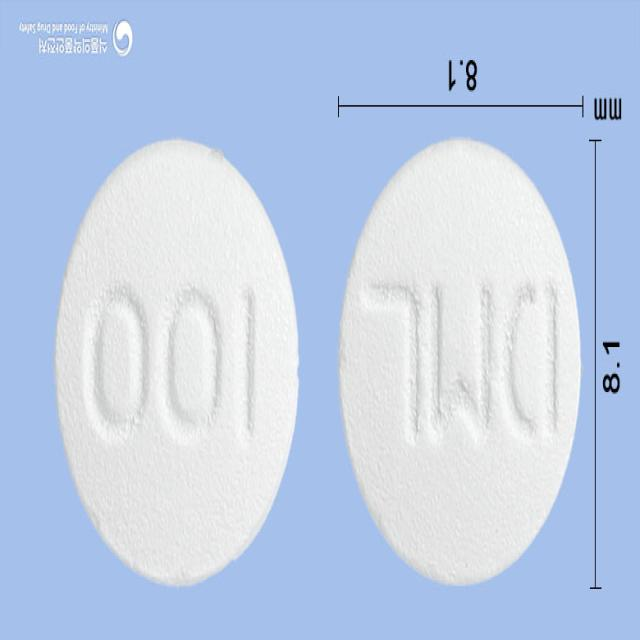Ciprofloxacin Tab- Pharma: (54, 141, 300, 589), (339, 139, 580, 590)
